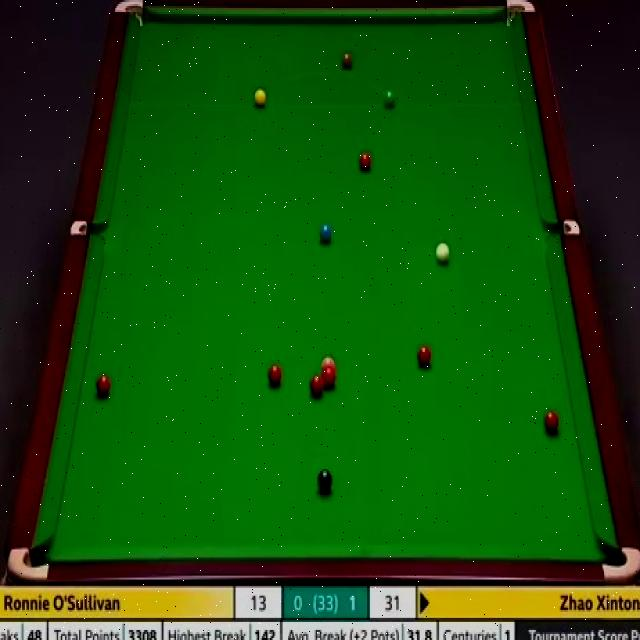black-ball: (317, 466, 333, 493)
blue-ball: (317, 221, 332, 244)
brown-ball: (340, 51, 353, 71)
green-ball: (382, 88, 396, 108)
pink-ball: (321, 356, 336, 371)
red-ball: (95, 372, 112, 398), (356, 150, 373, 173), (544, 412, 560, 434), (267, 364, 282, 387), (320, 368, 337, 388), (417, 345, 431, 368), (310, 376, 324, 396)
white-ball: (434, 241, 452, 266)
yellow-ball: (253, 86, 267, 108)
